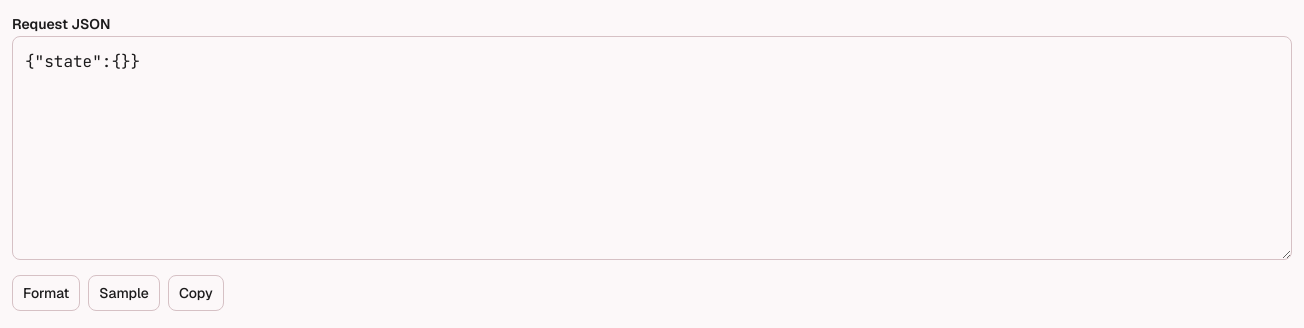
JsonInput › Copy writes the current text to the clipboard and confirms
The image size is (1304, 328).
Click the button "Copy" at (196, 293), box 168,275 -> 224,311
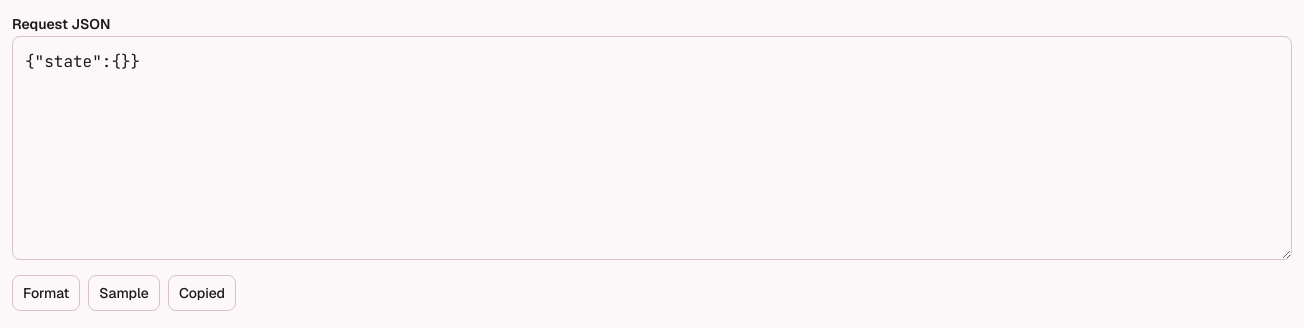
expect the button "Copied" is shown: met, box 168,275 -> 236,311
